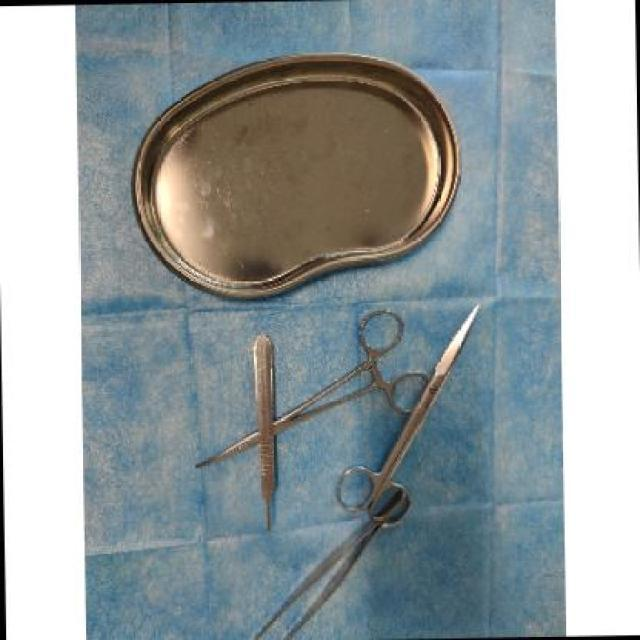tools_table: (83, 8, 560, 640)
